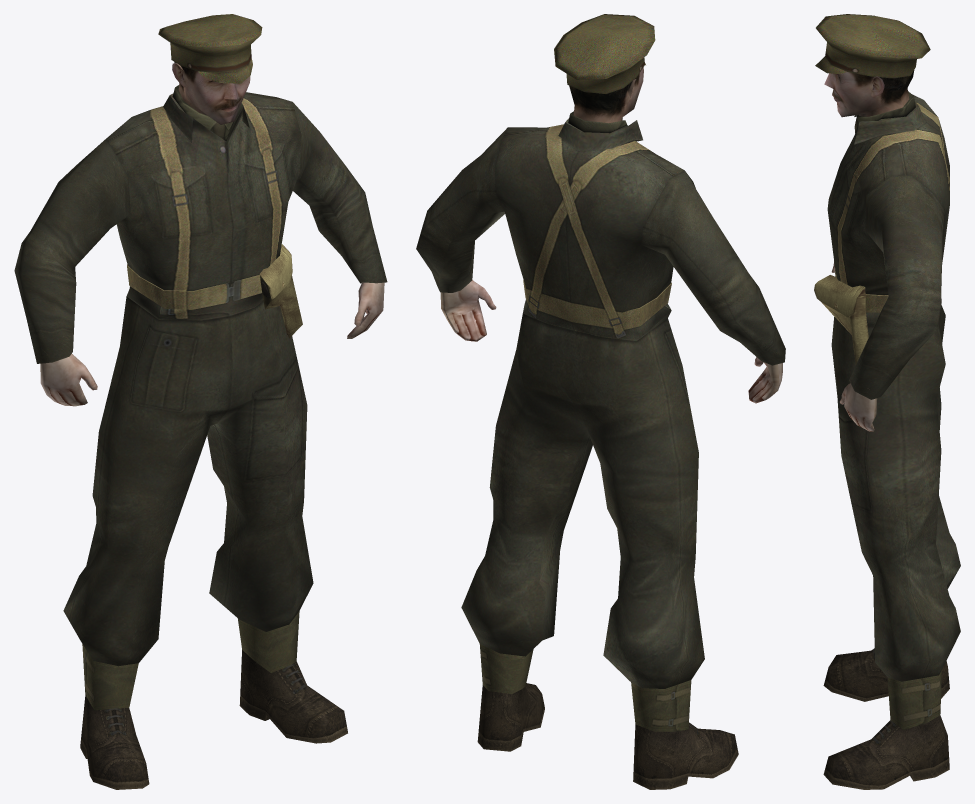
The model's file is Soldier3.fbx.
The picture shows the model from 3 angles, left to right: view 1: azimuth 30°, elevation 25°; view 2: azimuth 150°, elevation 25°; view 3: azimuth 270°, elevation 25°; orthographic projection. The views are drawn at different scales.
Parts seen in each view (by area): view 1: Soldier3; view 2: Soldier3; view 3: Soldier3.
Part boxes in pixels (<box>): Soldier3: <box>14,14,387,789</box>; Soldier3: <box>416,14,785,789</box>; Soldier3: <box>814,14,960,789</box>.
Bounding box in the file's own units: 86.77 × 172 × 32.27.
1 material, 1 textured.
